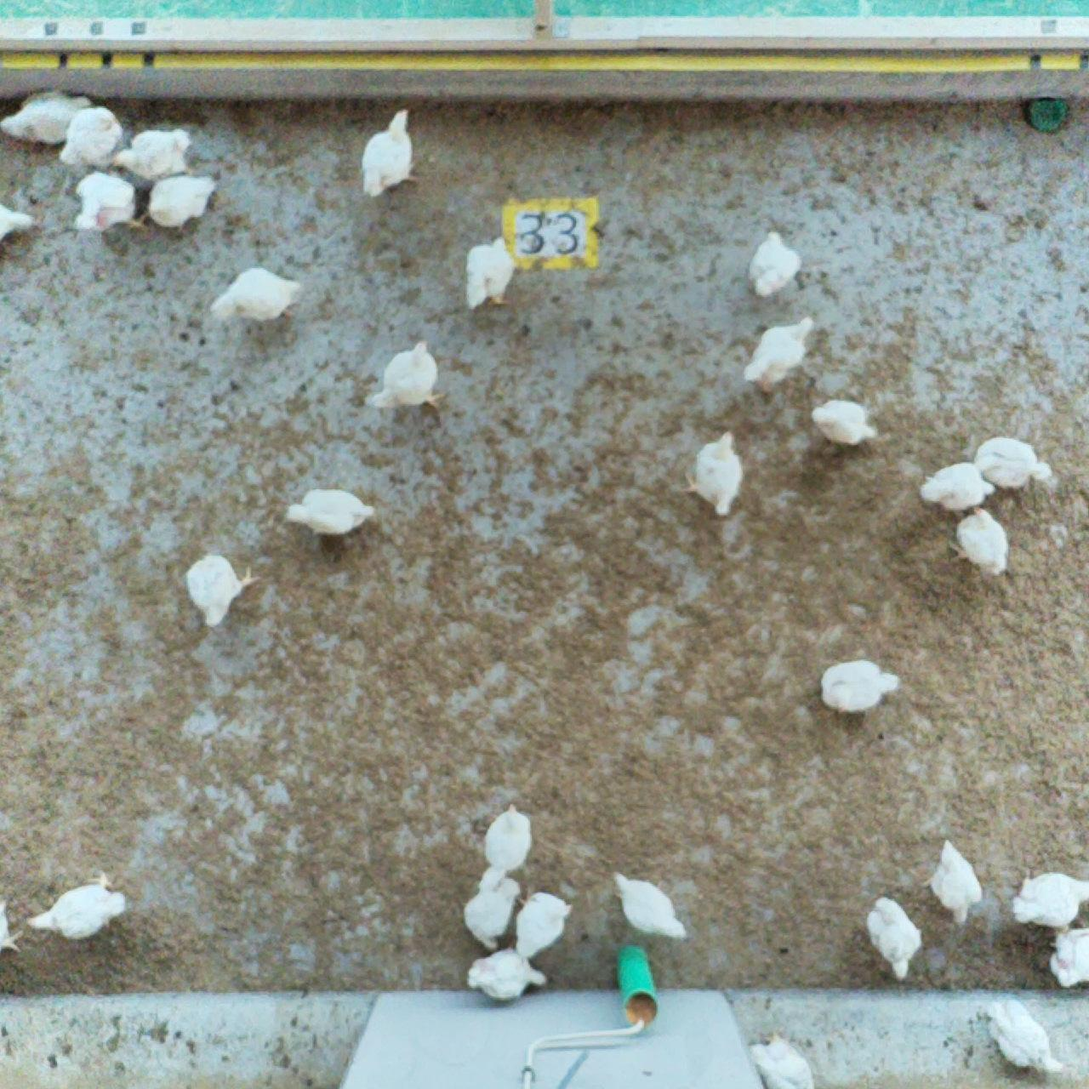chicken: (18, 869, 128, 944), (180, 550, 268, 630), (986, 995, 1071, 1075), (357, 106, 429, 199), (359, 341, 448, 415), (678, 428, 750, 518), (740, 313, 815, 395), (609, 869, 691, 941), (69, 168, 155, 235), (864, 892, 930, 979), (284, 480, 378, 539), (1, 89, 100, 143), (213, 265, 305, 322), (481, 804, 536, 898), (932, 836, 989, 925), (148, 170, 229, 230), (946, 502, 1012, 573), (112, 126, 195, 182), (461, 233, 518, 313), (465, 947, 554, 998), (513, 888, 576, 960), (54, 104, 119, 173), (1013, 867, 1089, 926), (916, 458, 999, 512), (461, 876, 522, 949), (818, 658, 903, 710), (975, 438, 1057, 488), (748, 1035, 822, 1089), (813, 396, 884, 452), (747, 227, 808, 291), (1047, 926, 1089, 993), (1, 200, 44, 250), (1, 896, 23, 961)
